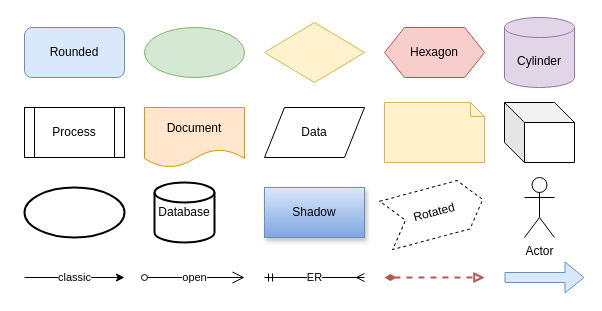
This 602x311 diagram has some shape labels left out. Each missing label, with the centre of its shape:
Cube: point 539,132
Decision: point 314,52
Ellipse: point 194,52
Note: point 434,132
Start: point 74,212
